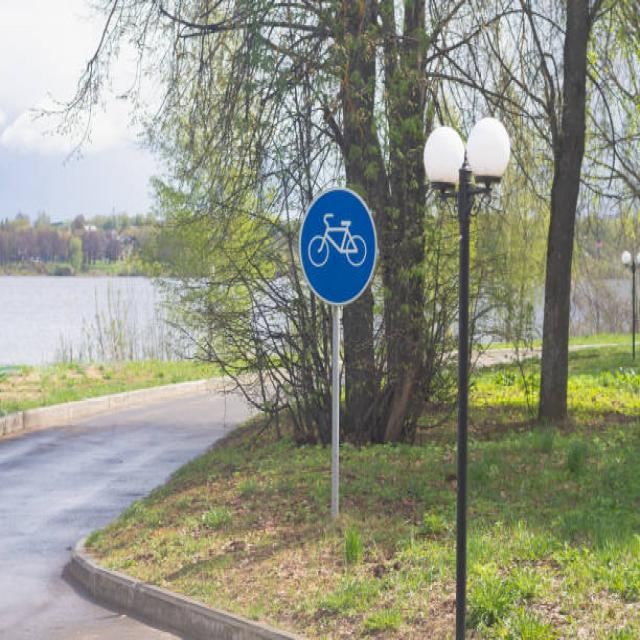bicycle: (296, 184, 384, 306)
